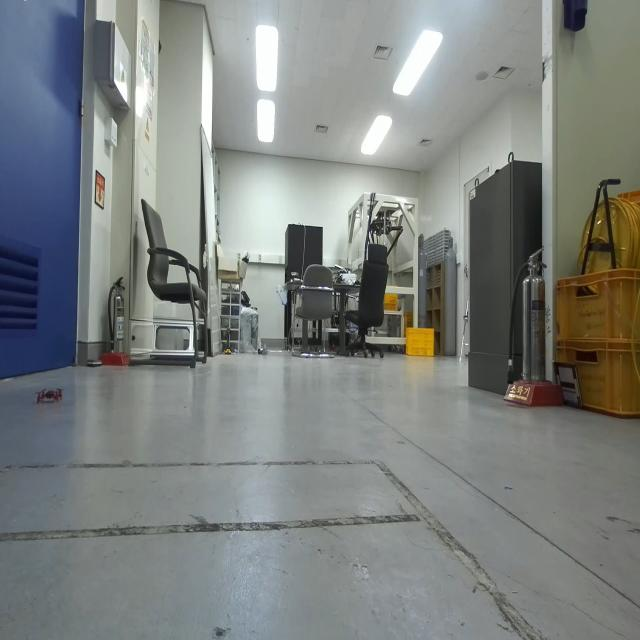crazyflie: (35, 382, 63, 407)
